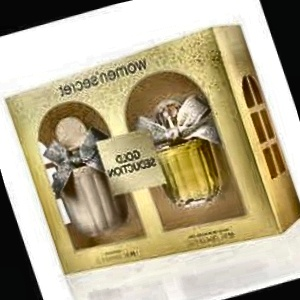women_secret: (108, 19, 192, 89)
